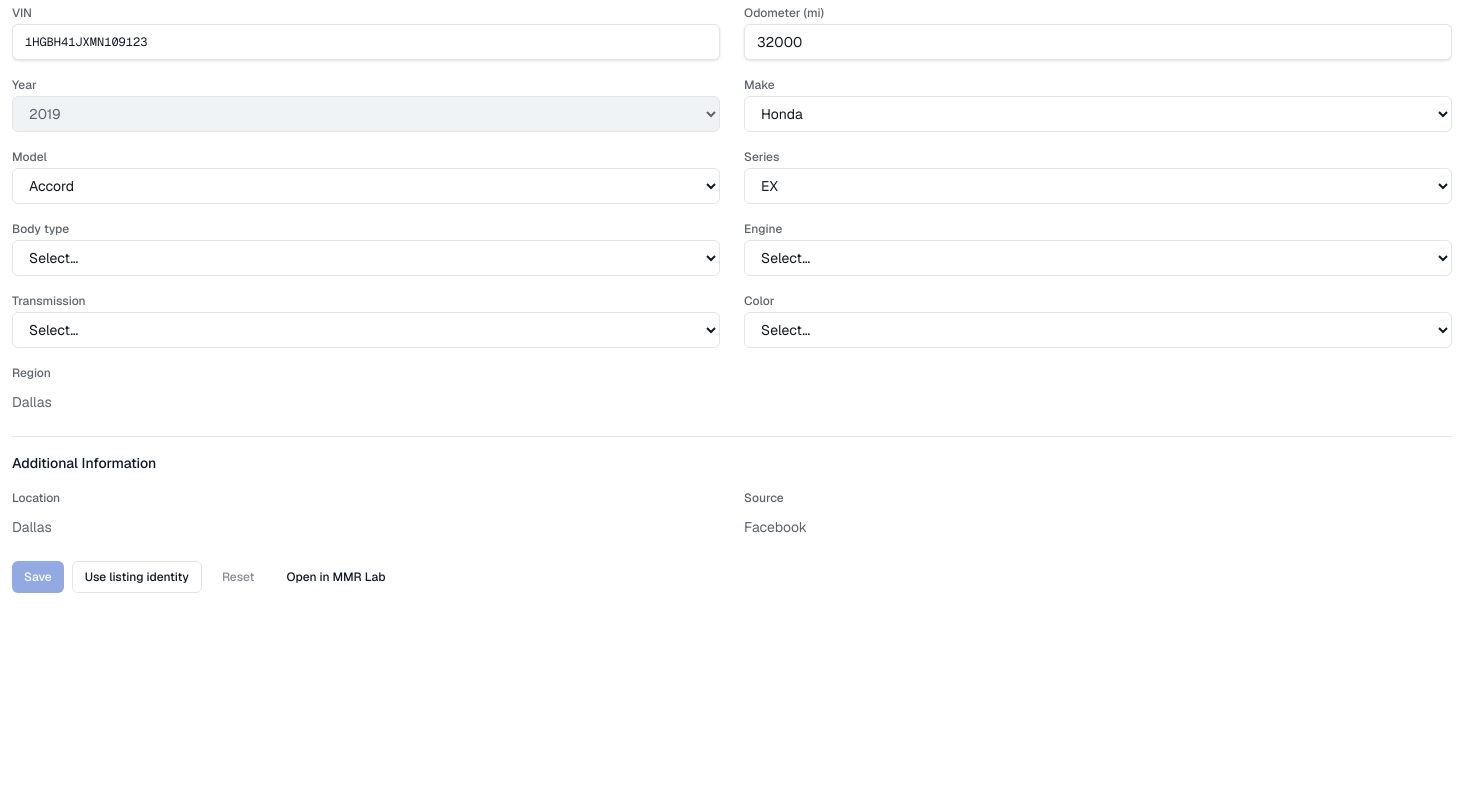
Test: OpportunityVehicleBlock › clears make/model/series when year changes
Expected: the dropdown labelled "Make" shows "Honda", [744,96,1452,132]
Select "2020" in the dropdown labelled "Year" at x=366, y=114, box [12,96,720,132]
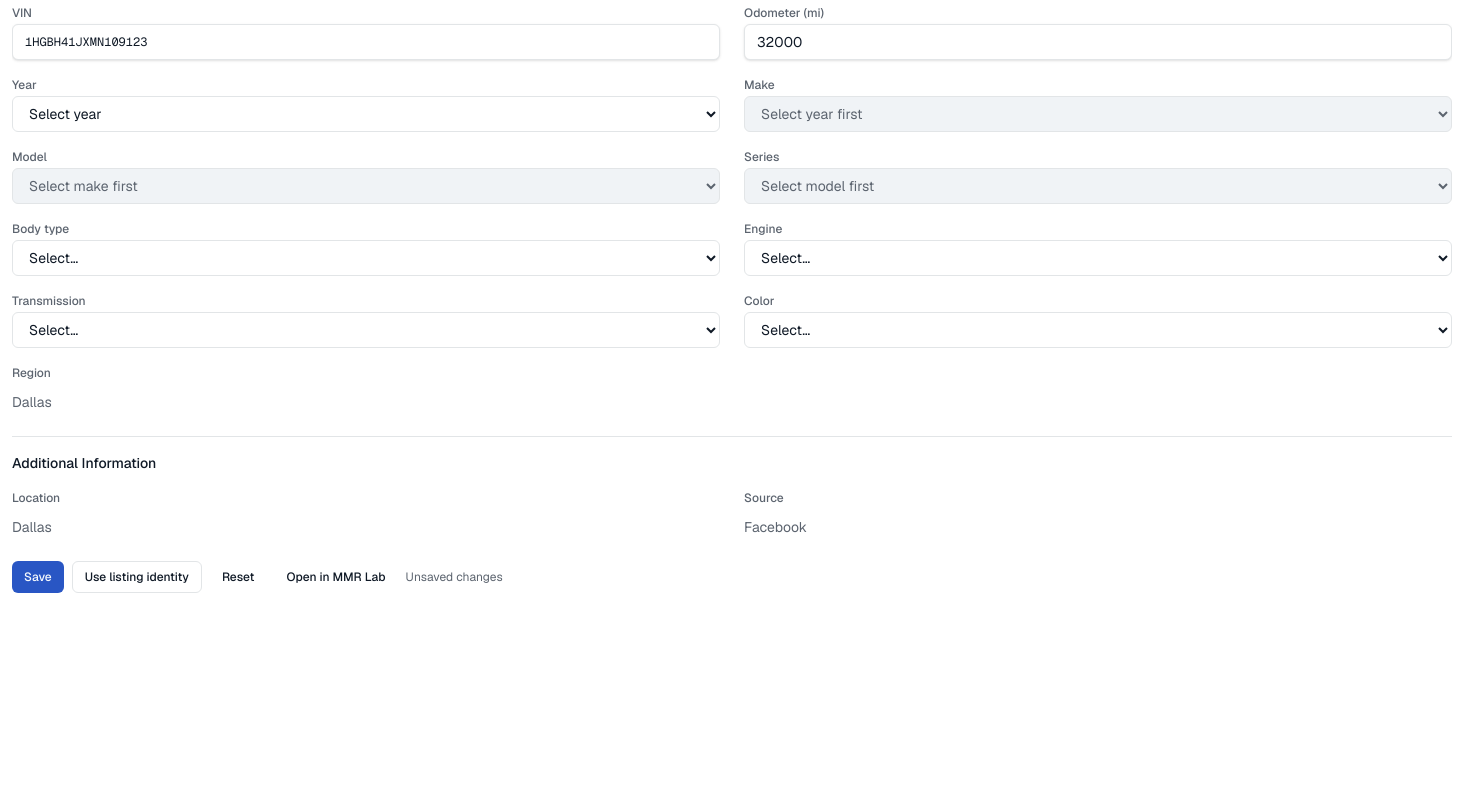
Now the dropdown labelled "Make" shows "Select year first", box [744,96,1452,132]
Now the dropdown labelled "Model" shows "Select make first", box [12,168,720,204]
Now the dropdown labelled "Series" shows "Select model first", box [744,168,1452,204]
